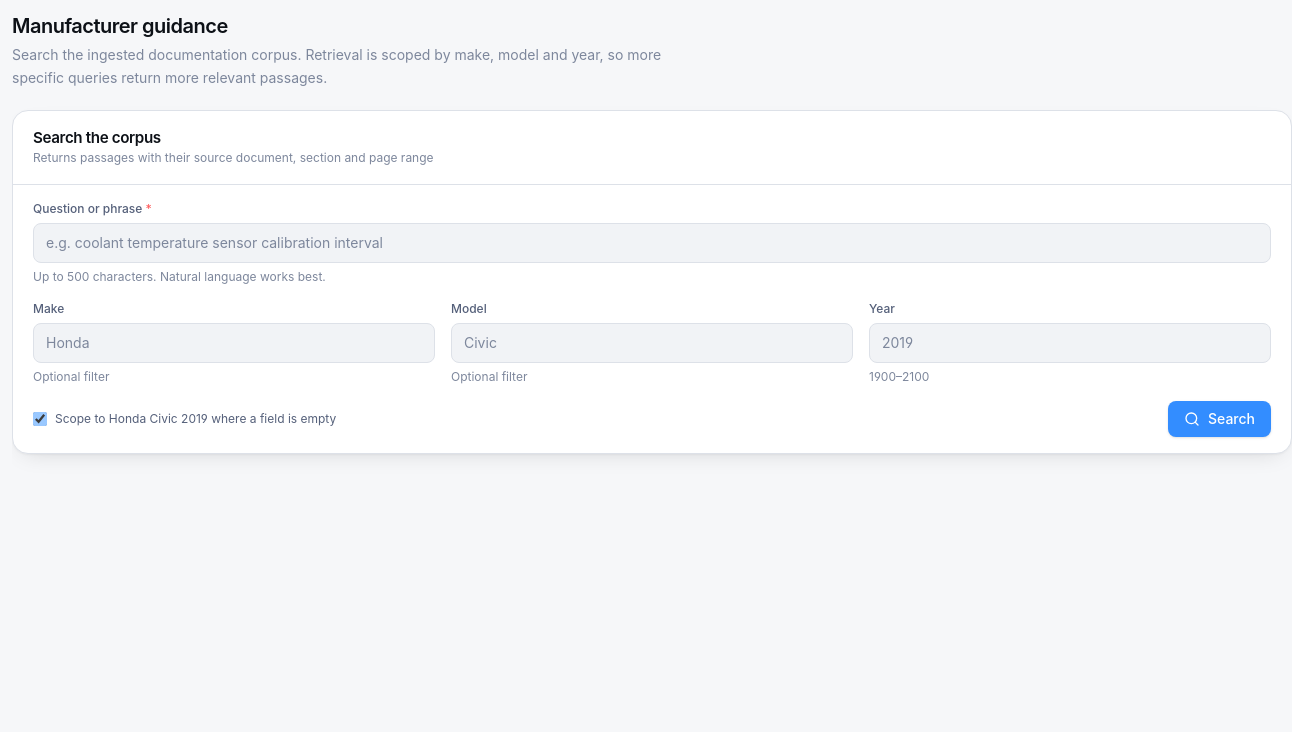
Test: RagSearchView › asks for a query when the backend reports an empty query
Step 1. Type "brake wear" into the field labelled "Question or phrase *" → (652, 243), box [33,223,1271,263]
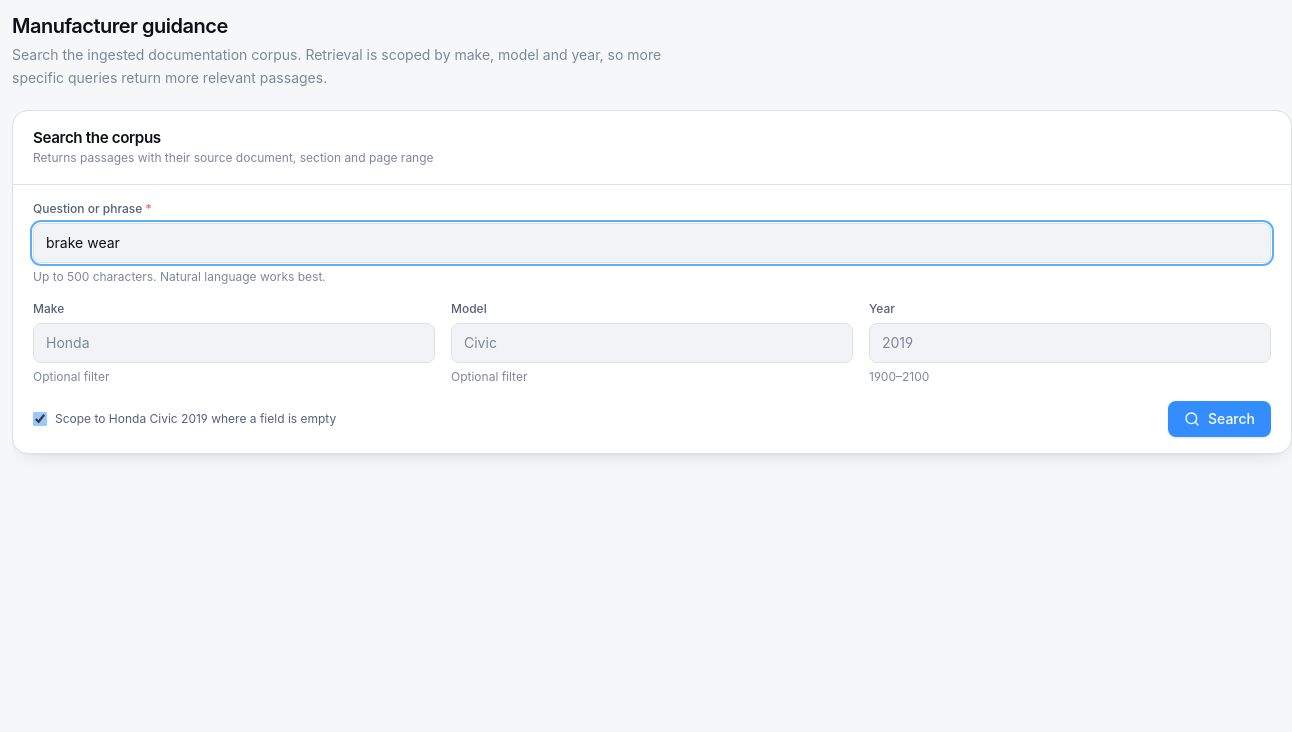
Step 2. Click the button "Search" → (1220, 419), box [1168,401,1271,437]
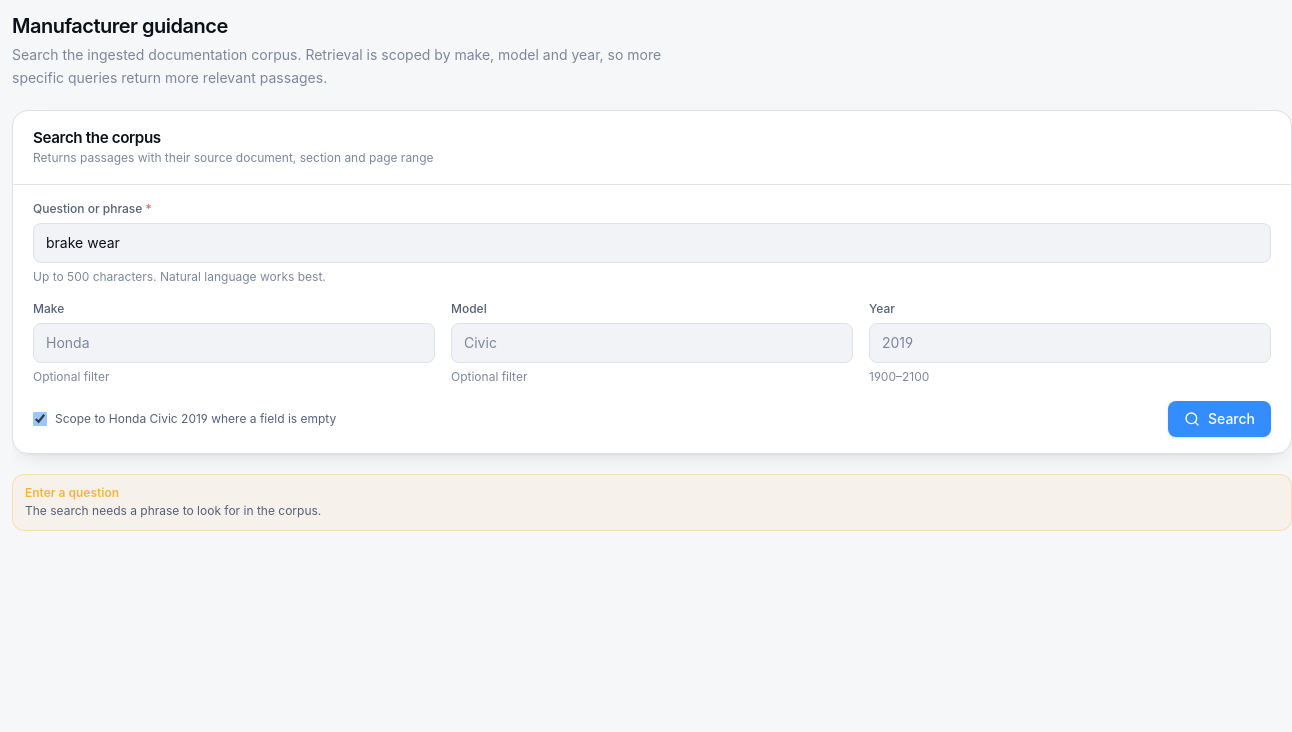
Now the text "Enter a question" is shown, box [25,485,119,500]
